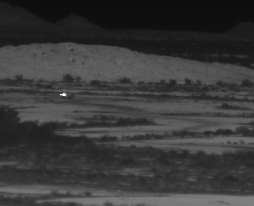Target: (61, 94, 66, 96)
